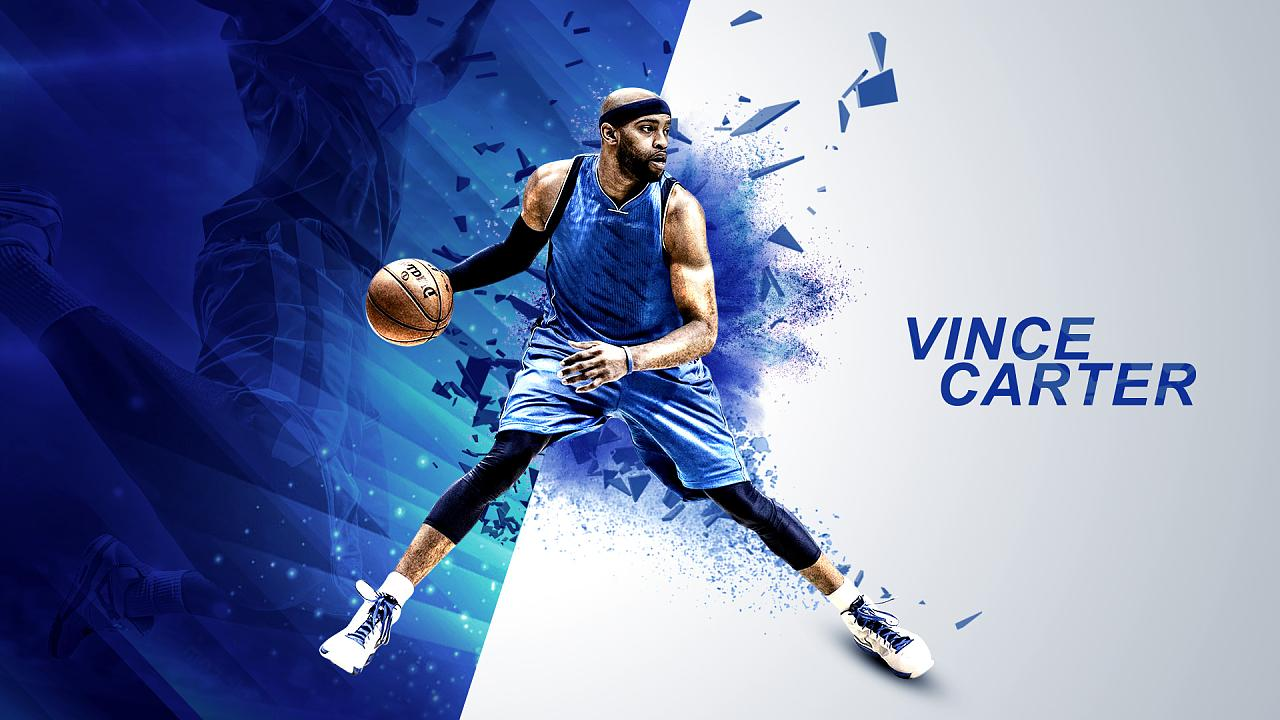ball: (366, 258, 454, 347)
